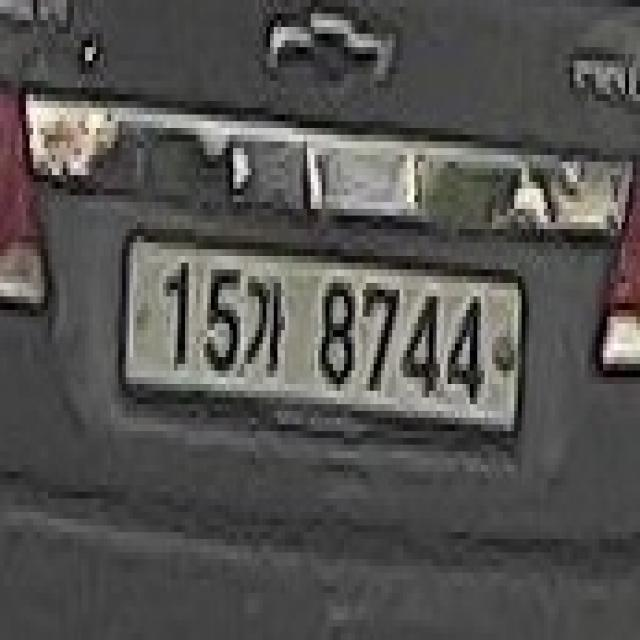1: (159, 243, 196, 377)
4: (440, 290, 492, 411), (399, 283, 444, 411)
5: (200, 256, 244, 384)
7: (359, 283, 399, 397)
8: (314, 269, 359, 391)
ga: (244, 269, 289, 384)
license_plate: (115, 216, 532, 458)
